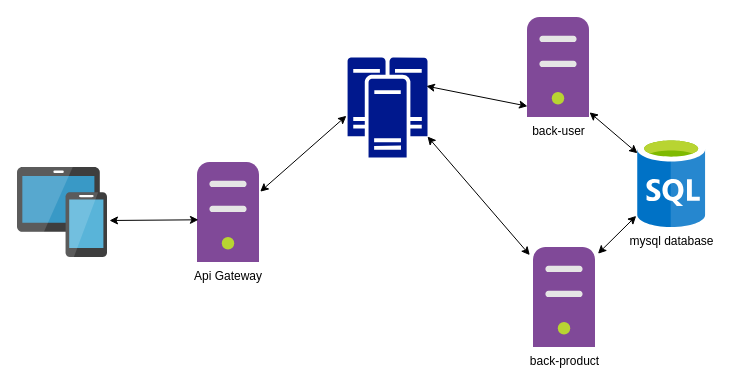
Image size: 731x385. Some labels were removed from this diagram. The centre of each missing label's shape, as x and y in pixels:
"Clients" belongs at [62,212].
"Kafka cluster" belongs at [387,107].
